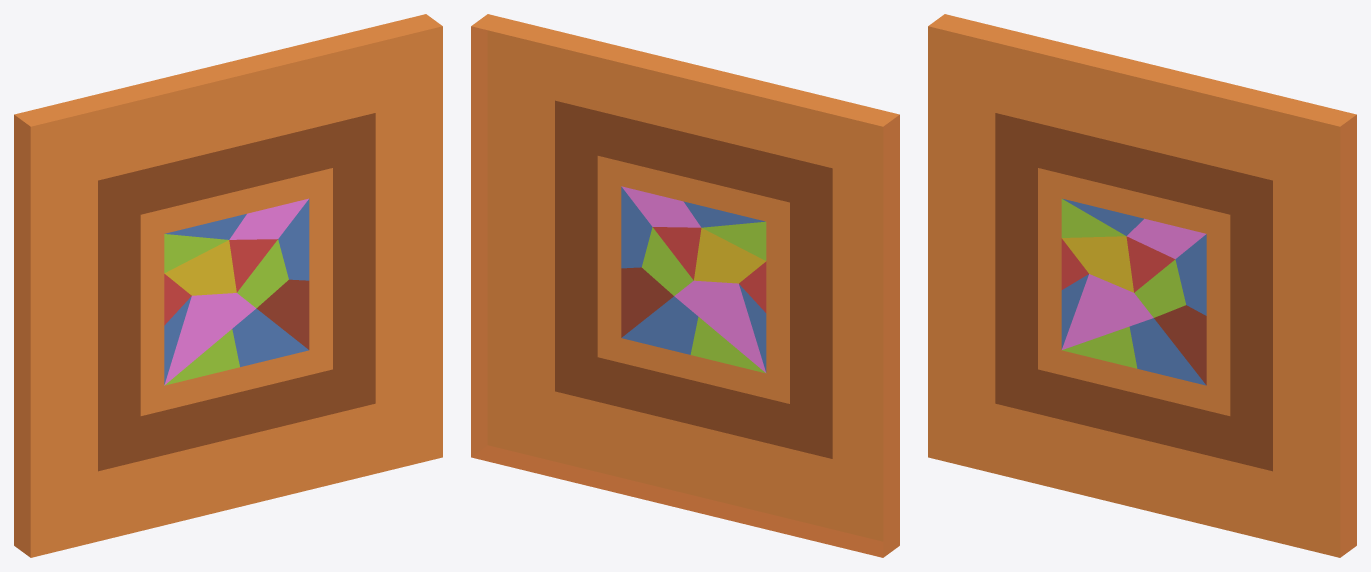
File: WallDeco3.glb
3 renders of one model, left to right at view 1: azimuth 30°, elevation 25°; view 2: azimuth 150°, elevation 25°; view 3: azimuth 330°, elevation 25°, orthographic.
Parts seen in each view (by area): view 1: SI_Prop_WallDeco_03; view 2: SI_Prop_WallDeco_03; view 3: SI_Prop_WallDeco_03.
Part boxes in pixels (box(x1,y1,x2,y2)): SI_Prop_WallDeco_03: box(14, 14, 442, 557); SI_Prop_WallDeco_03: box(471, 14, 899, 557); SI_Prop_WallDeco_03: box(928, 14, 1356, 557).
Bounding box in the file's own units: 0.01 × 0.01 × 0.000702.
Materials: 1 (1 with a texture image).
